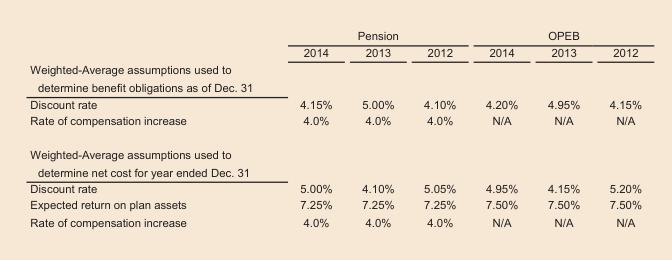table: (29, 28, 641, 228)
table column: (29, 28, 242, 228), (242, 28, 346, 228), (346, 28, 408, 228), (408, 28, 470, 228), (470, 28, 532, 228), (532, 28, 593, 228), (593, 28, 641, 228)
table column header: (29, 28, 641, 60)
table projected row header: (29, 136, 641, 162), (29, 60, 641, 78), (29, 162, 641, 180), (29, 78, 641, 95)
table row: (29, 136, 641, 162), (29, 111, 641, 136), (29, 60, 641, 78), (29, 162, 641, 180), (29, 43, 641, 60), (29, 78, 641, 95), (29, 196, 641, 213), (29, 95, 641, 111), (29, 180, 641, 196), (29, 28, 641, 43), (29, 213, 641, 228)
table spanning cell: (242, 28, 470, 43), (470, 28, 641, 43)
